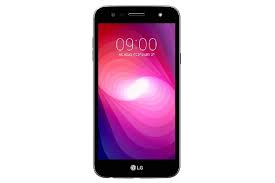lg: (89, 2, 182, 181)
